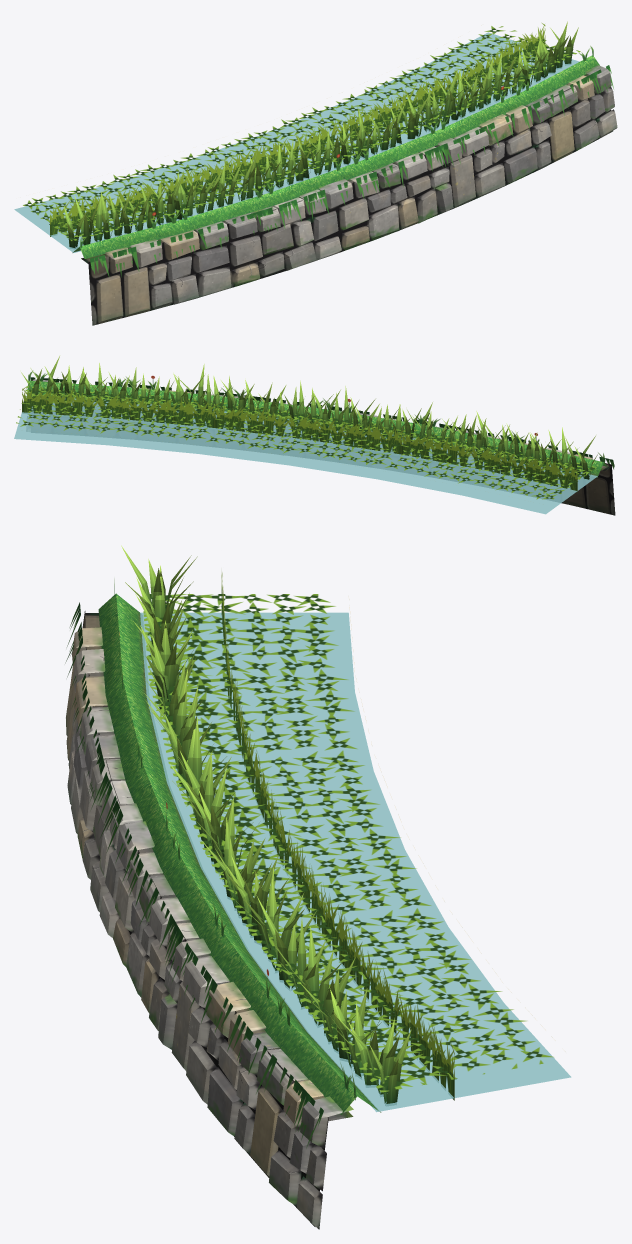
Rendered from terrace_convex_young_mid_plain.glb.
3 renders of one model, top to bottom at view 1: azimuth 30°, elevation 25°; view 2: azimuth 150°, elevation 25°; view 3: azimuth 270°, elevation 25°, orthographic. The views are drawn at different scales.
Parts seen in each view (by area): view 1: terrace_convex_young_mid_plain_wall, terrace_convex_young_mid_plain_cards, terrace_convex_young_mid_plain_lip, terrace_convex_young_mid_plain_water, terrace_convex_young_mid_plain_dike; view 2: terrace_convex_young_mid_plain_cards, terrace_convex_young_mid_plain_water, terrace_convex_young_mid_plain_lip, terrace_convex_young_mid_plain_dike, terrace_convex_young_mid_plain_wall; view 3: terrace_convex_young_mid_plain_water, terrace_convex_young_mid_plain_cards, terrace_convex_young_mid_plain_wall, terrace_convex_young_mid_plain_lip, terrace_convex_young_mid_plain_dike.
Boxes of the visible parts, box(x1,y1,x2,y2) form: terrace_convex_young_mid_plain_wall: box(81, 65, 617, 325); terrace_convex_young_mid_plain_cards: box(23, 23, 613, 277); terrace_convex_young_mid_plain_lip: box(63, 21, 578, 248); terrace_convex_young_mid_plain_water: box(14, 32, 579, 252); terrace_convex_young_mid_plain_dike: box(72, 55, 599, 258); terrace_convex_young_mid_plain_cards: box(16, 371, 614, 499); terrace_convex_young_mid_plain_water: box(14, 395, 597, 514); terrace_convex_young_mid_plain_lip: box(21, 356, 597, 479); terrace_convex_young_mid_plain_dike: box(27, 380, 607, 477); terrace_convex_young_mid_plain_wall: box(32, 379, 615, 515); terrace_convex_young_mid_plain_water: box(140, 612, 571, 1112); terrace_convex_young_mid_plain_cards: box(65, 572, 553, 1148); terrace_convex_young_mid_plain_wall: box(66, 611, 353, 1229); terrace_convex_young_mid_plain_lip: box(121, 545, 411, 1104); terrace_convex_young_mid_plain_dike: box(98, 593, 381, 1114).
Bounding box in the file's own units: 11.83 × 1.97 × 4.95.
5 materials, 4 textured.
